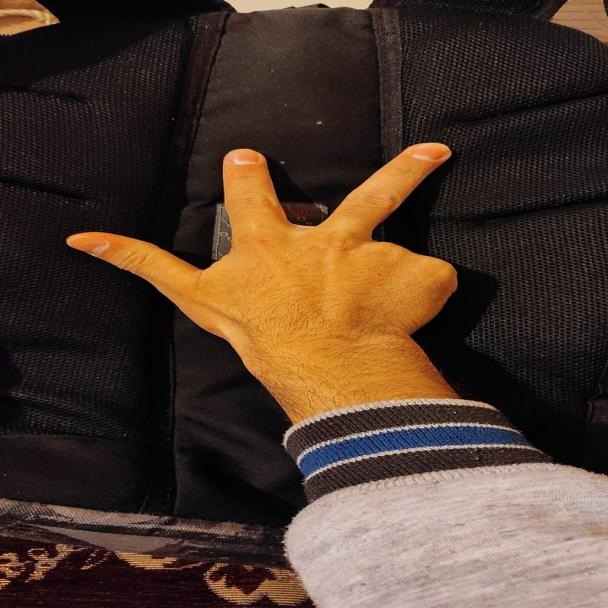three: (71, 138, 474, 348)
